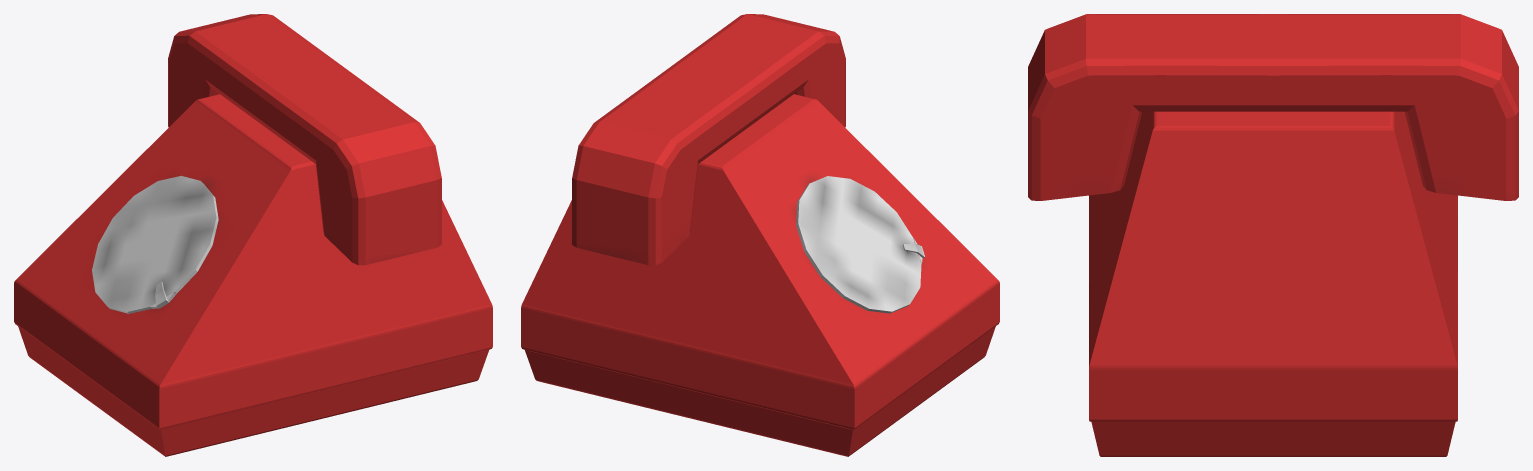
Rendered from Telefono1.fbx.
3 views of the same model, side by side, from view 1: azimuth 30°, elevation 25°; view 2: azimuth 150°, elevation 25°; view 3: azimuth 270°, elevation 25° (orthographic). The views are drawn at different scales.
Parts seen in each view (by area): view 1: pCube275; view 2: pCube275; view 3: pCube275.
Boxes of the visible parts, <box> form: pCube275: <box>14,14,492,456</box>; pCube275: <box>521,14,999,456</box>; pCube275: <box>1028,14,1518,456</box>.
Size of the model in its own units: 0.196 by 0.1576 by 0.1968.
